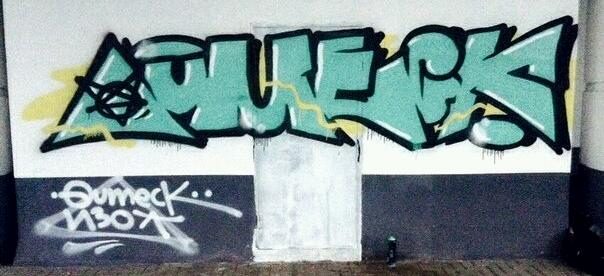graffity: (18, 12, 584, 164), (24, 172, 253, 257)
